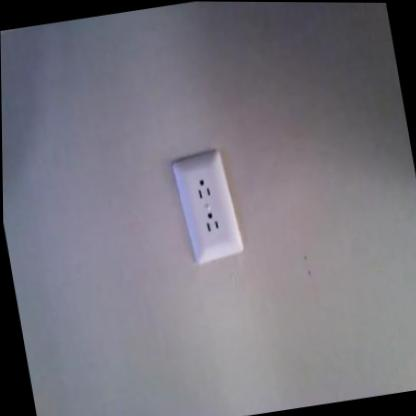OUTLET: (172, 152, 240, 261)
